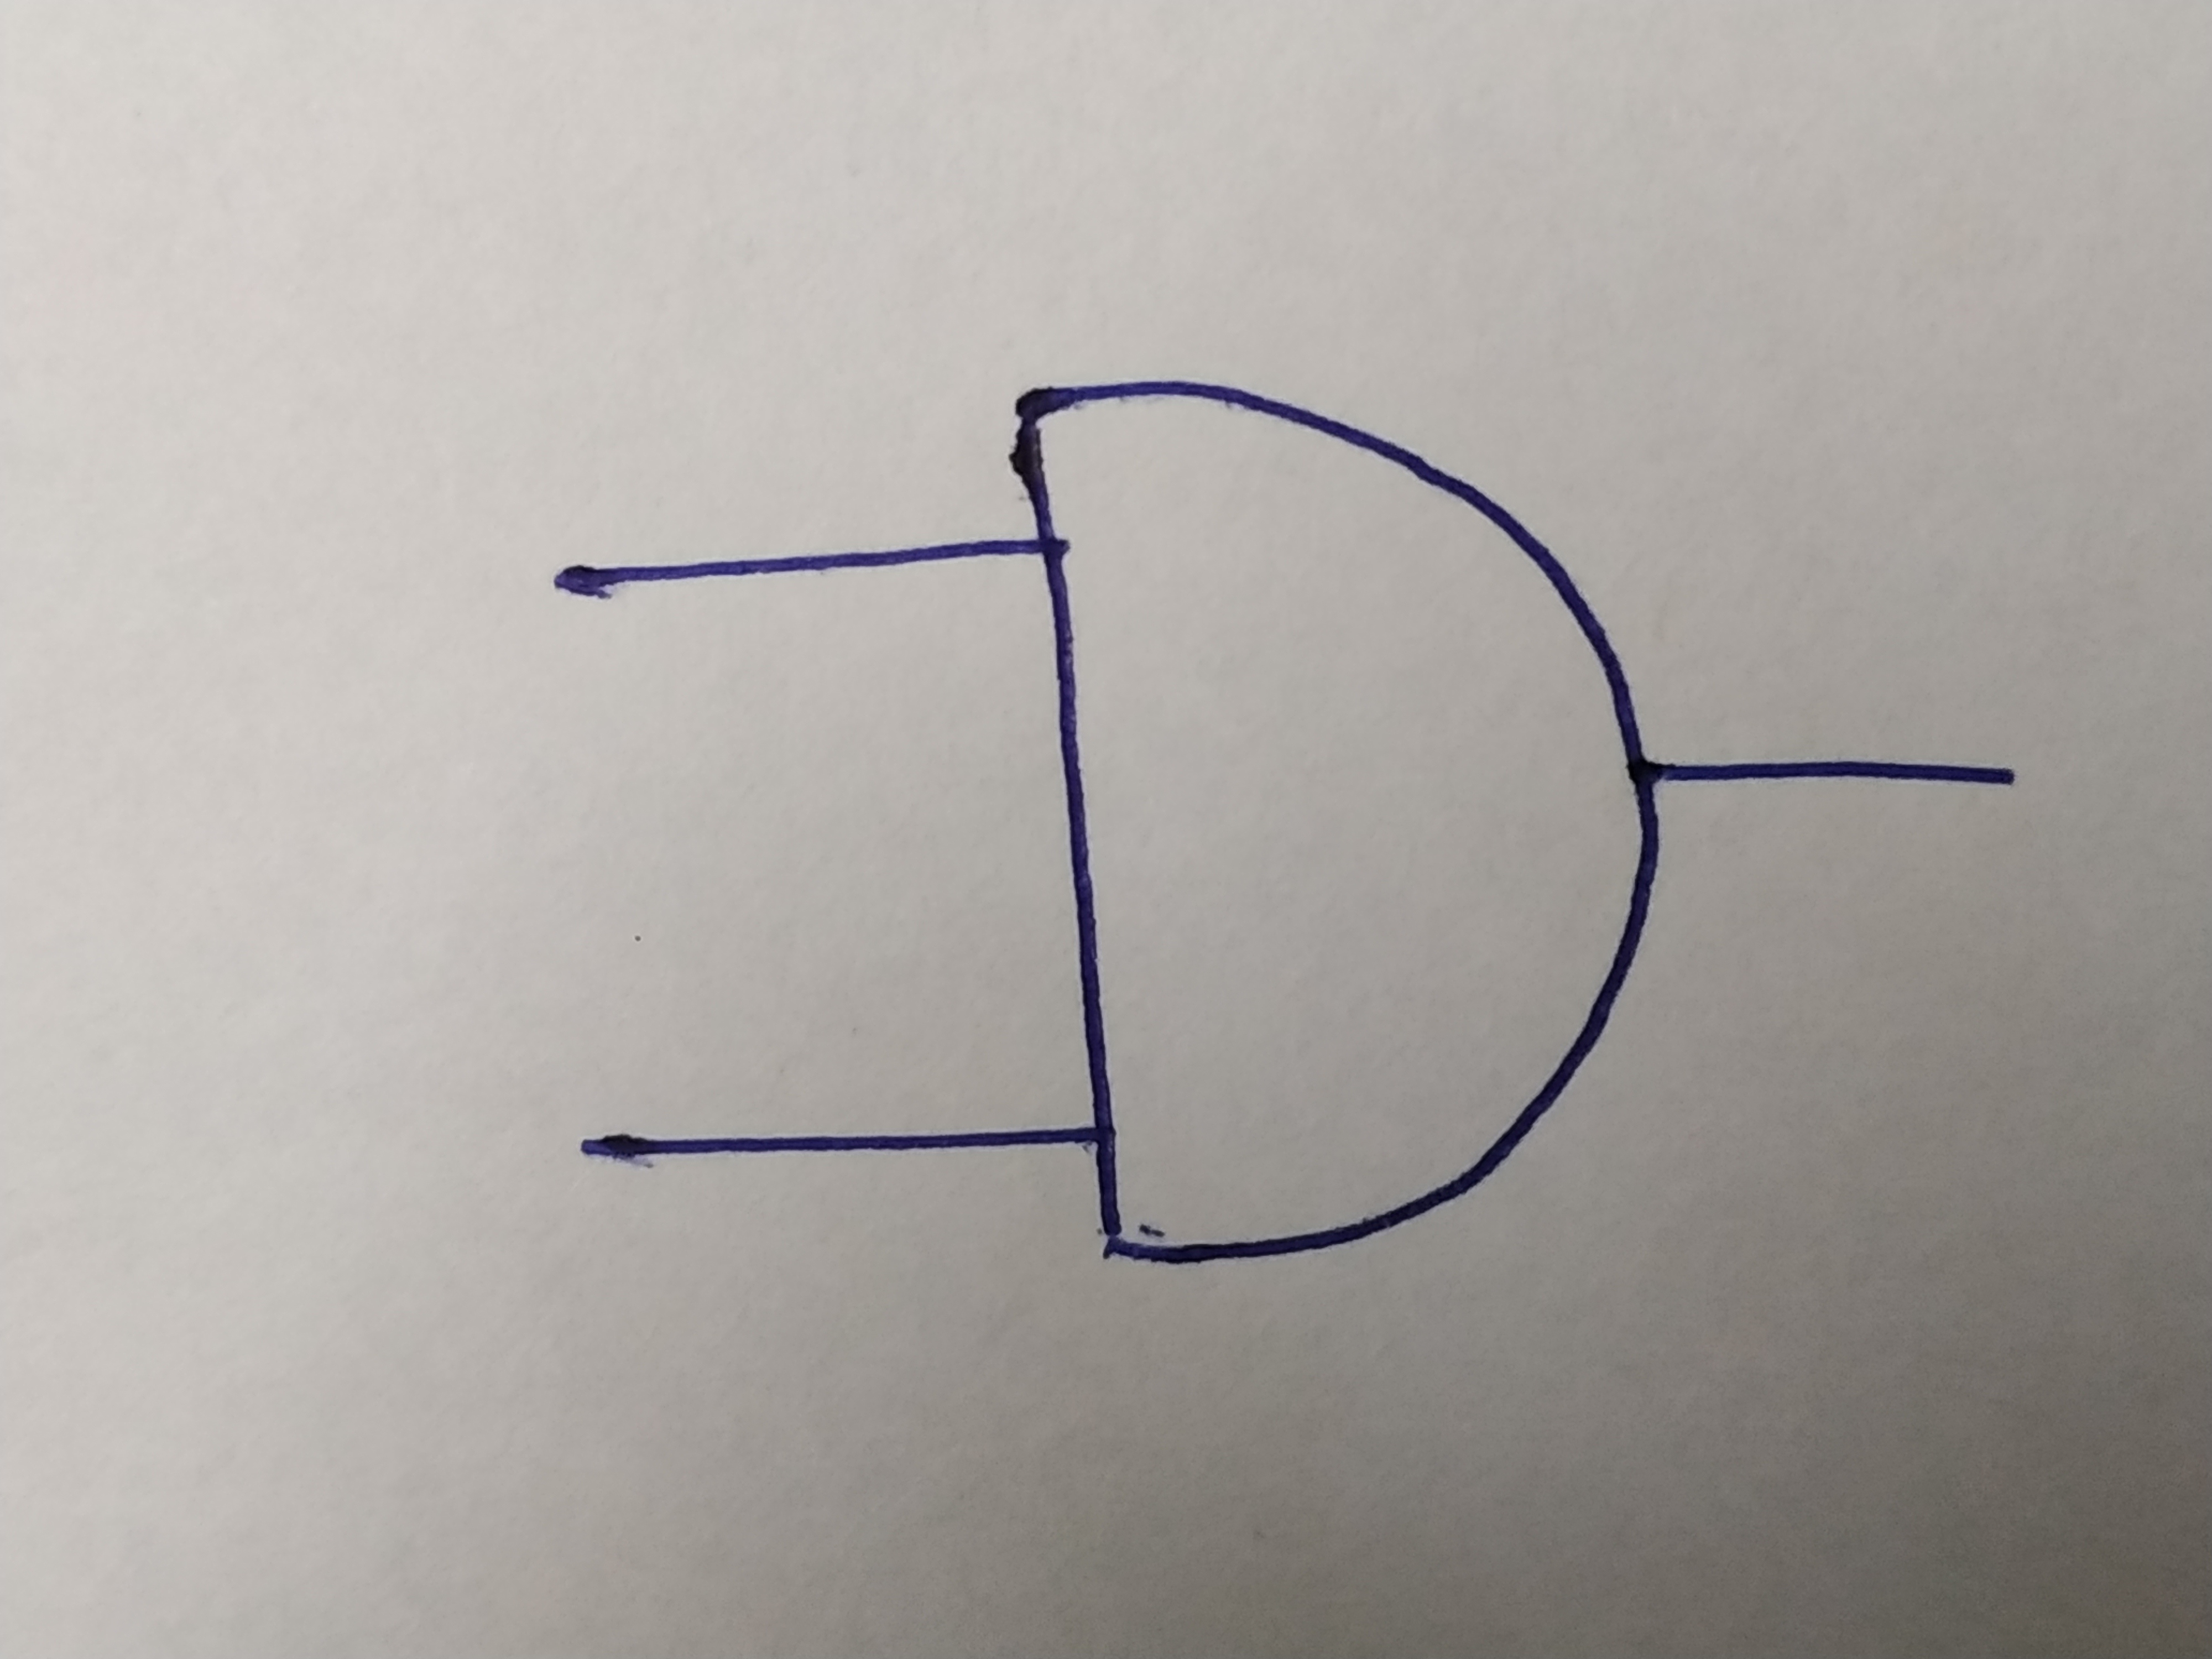and: (1028, 385, 1663, 1262)
